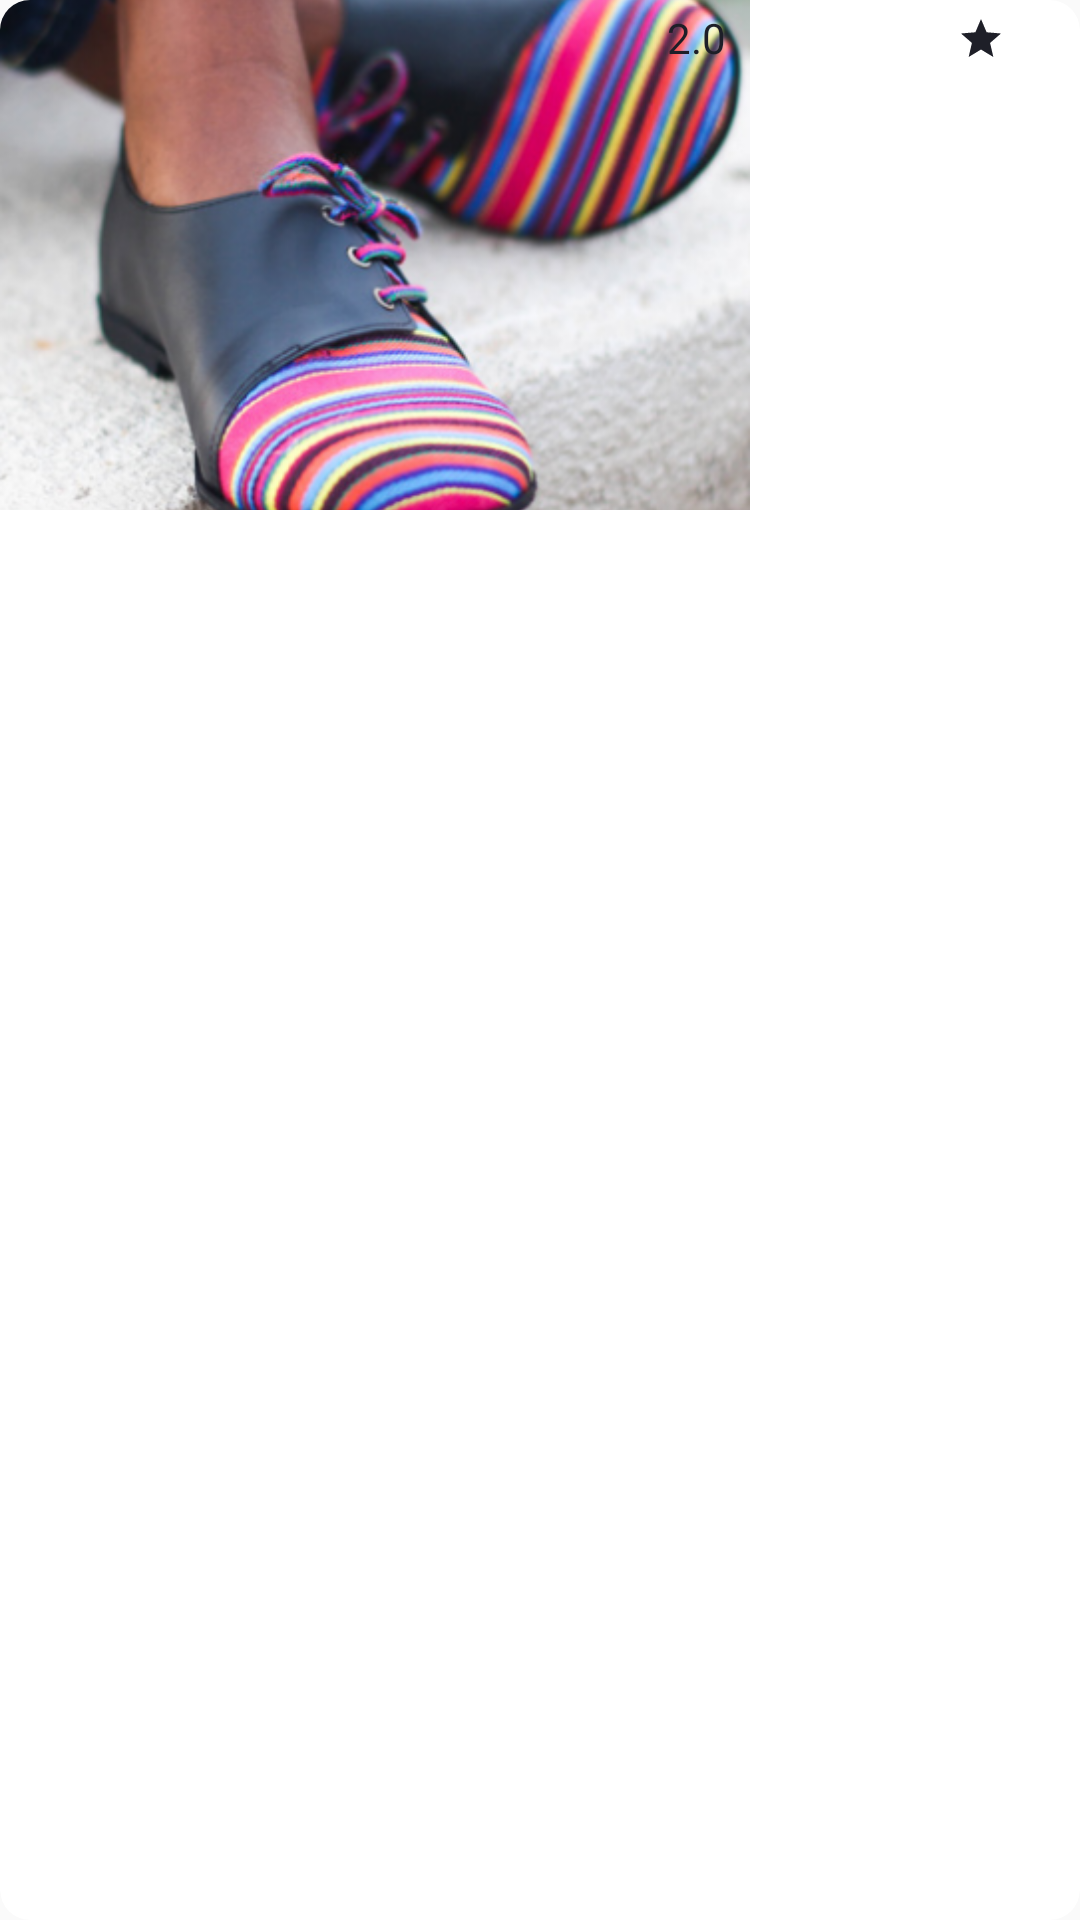

Point at icon controls on the screen. Image size 1080w x 1920h, points as (x=x, y=y).
star: (x=981, y=38)
